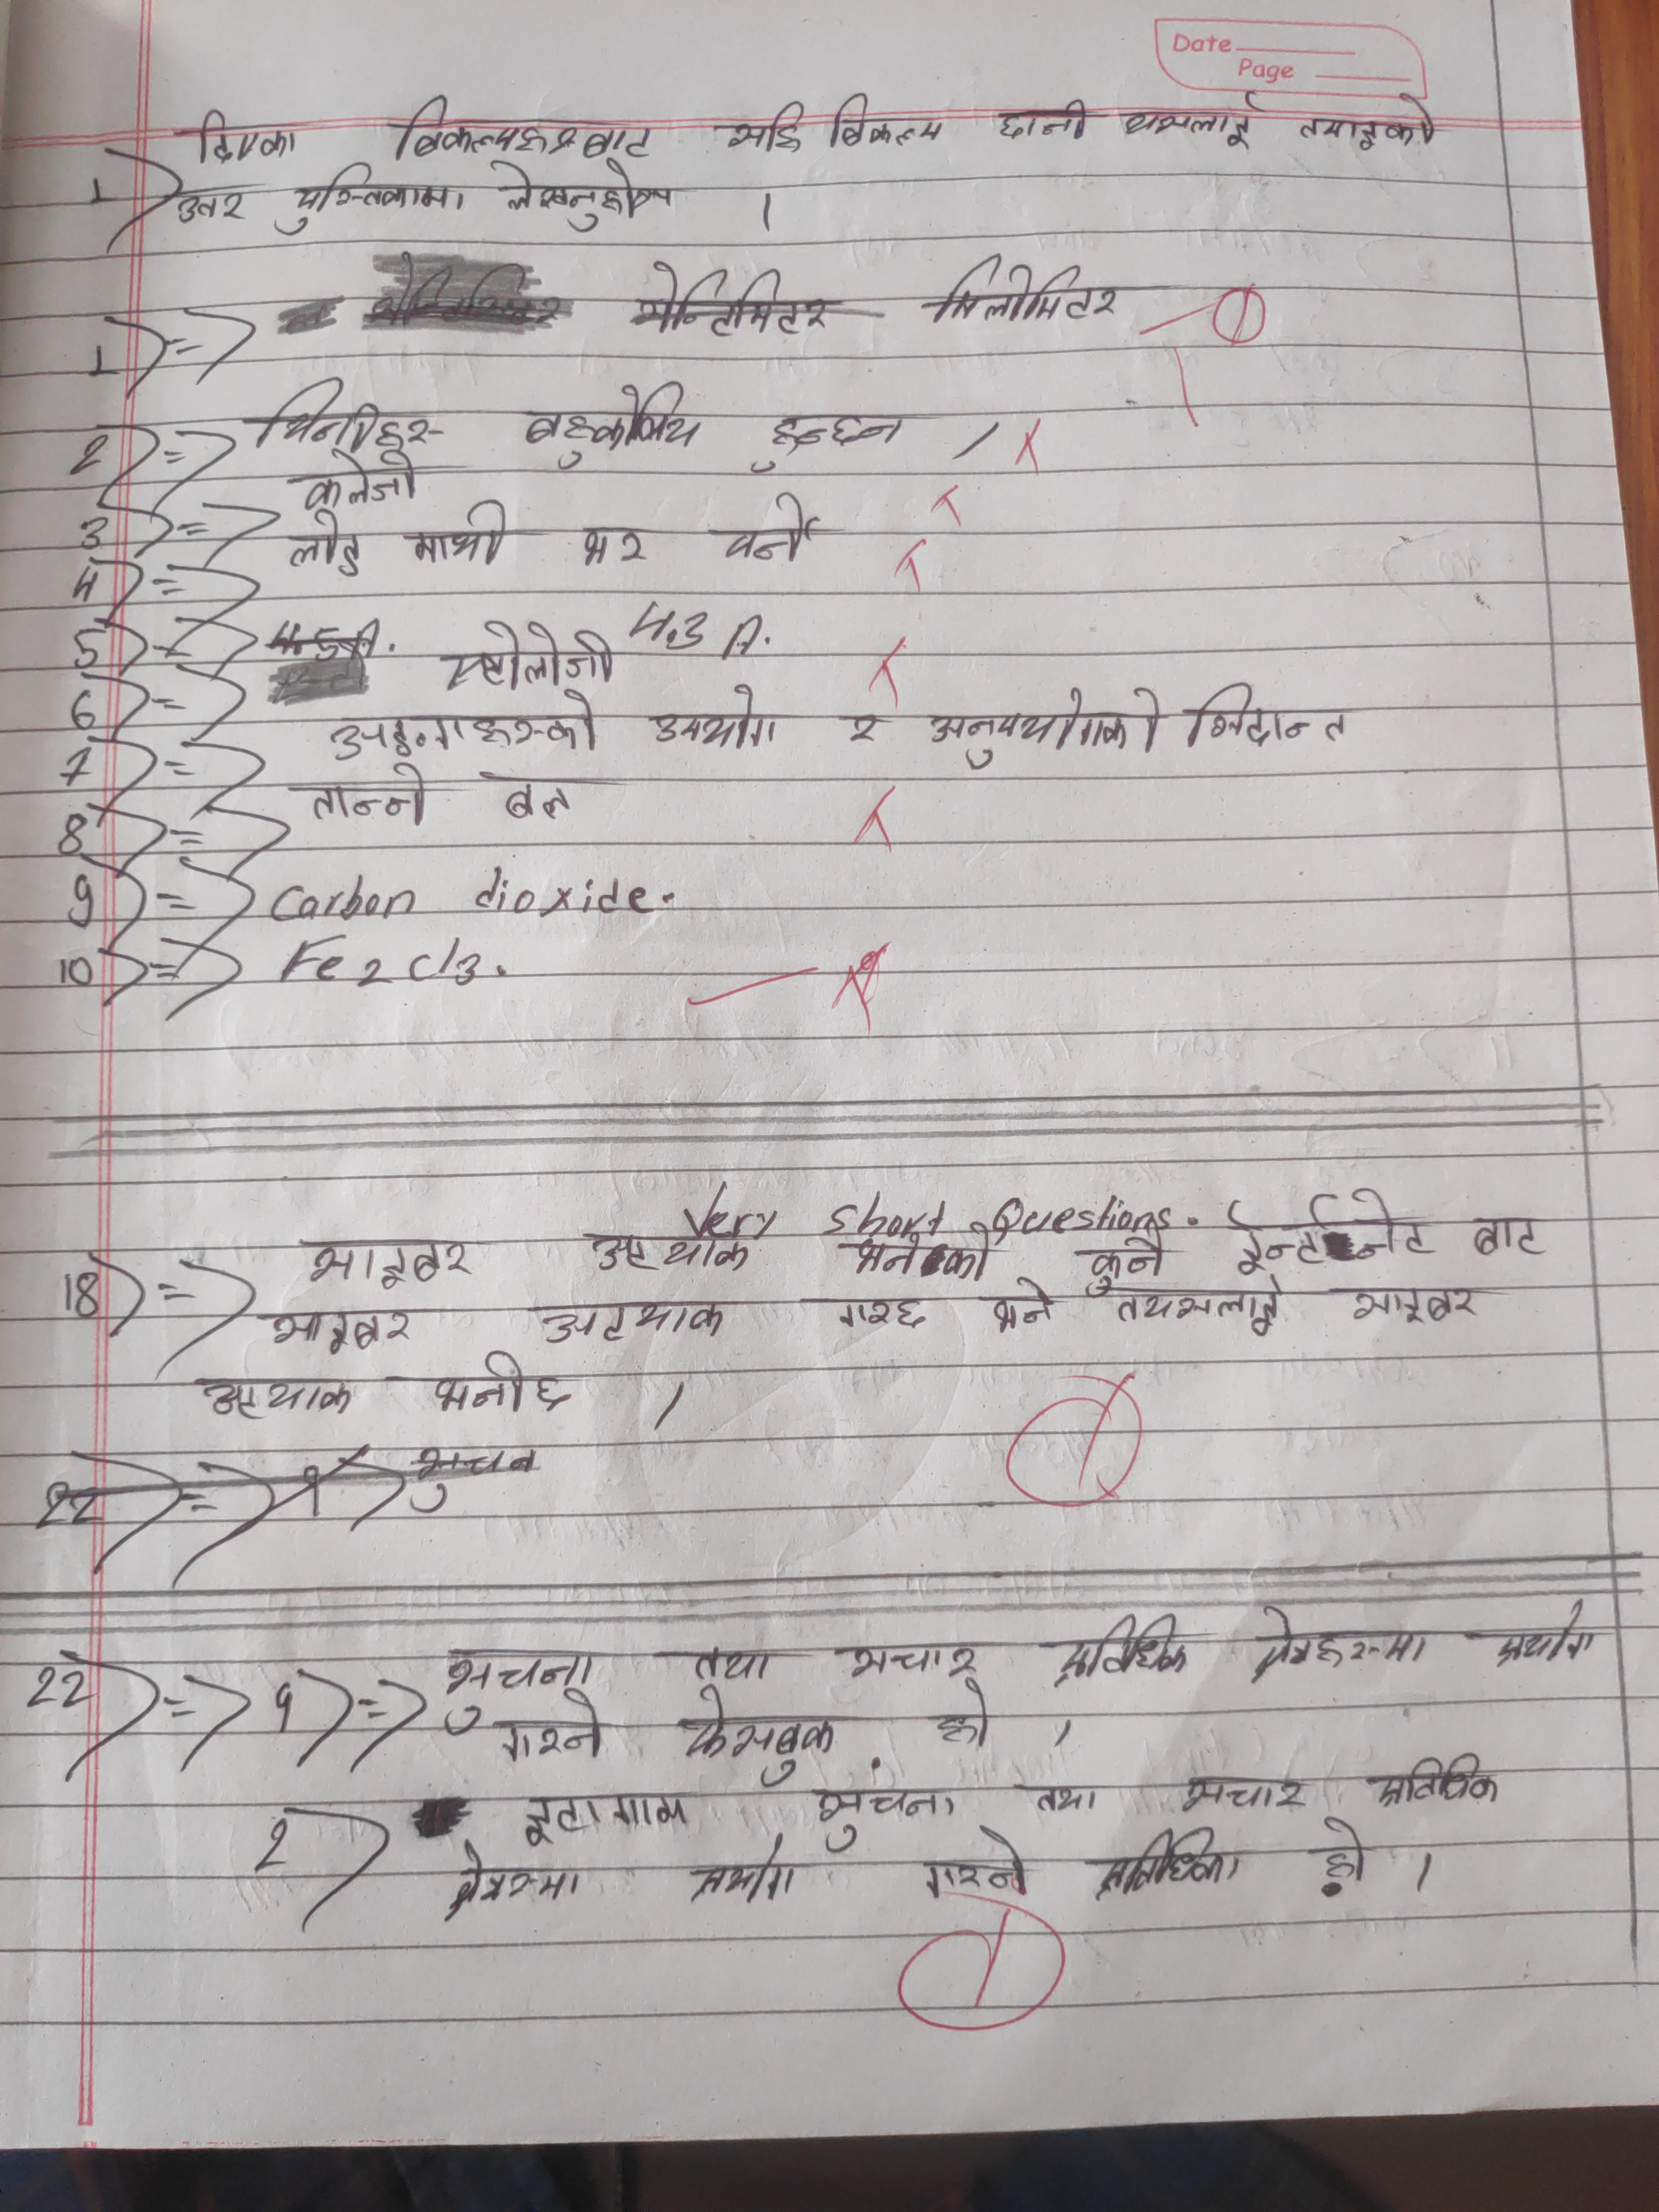text: (315, 688, 606, 761), (918, 685, 1171, 765), (387, 91, 657, 162), (1220, 1190, 1443, 1275), (626, 256, 833, 345), (514, 378, 713, 467), (669, 1679, 836, 1784), (566, 1197, 762, 1282), (234, 373, 448, 449), (486, 153, 681, 235), (432, 611, 624, 693), (924, 251, 1131, 322), (420, 1637, 591, 1723), (282, 162, 481, 235), (1249, 1608, 1431, 1686), (1044, 1608, 1201, 1689), (296, 1230, 477, 1298), (181, 1359, 357, 1428), (1183, 676, 1349, 749), (505, 1784, 702, 1844), (1103, 1275, 1288, 1339), (744, 408, 910, 479), (640, 678, 786, 758), (1087, 1832, 1253, 1902), (807, 1782, 964, 1853), (429, 1348, 575, 1420), (286, 759, 443, 824), (540, 1292, 725, 1346), (1324, 1268, 1486, 1329), (917, 1827, 1037, 1909), (439, 1841, 579, 1911), (1363, 1750, 1514, 1813), (711, 495, 826, 573), (683, 1832, 805, 1905), (1464, 1601, 1600, 1665), (488, 1691, 610, 1763), (408, 500, 525, 573), (831, 87, 945, 162), (835, 1235, 1007, 1284), (1171, 1761, 1317, 1818), (289, 449, 422, 512), (464, 756, 591, 820), (263, 1305, 420, 1357), (1126, 94, 1263, 150), (173, 105, 303, 162), (1298, 99, 1436, 153), (842, 1635, 979, 1686), (662, 1639, 796, 1688), (272, 514, 373, 578), (1300, 1817, 1384, 1892), (723, 98, 816, 162), (1077, 1231, 1169, 1294), (819, 1291, 934, 1339), (972, 1275, 1060, 1336), (566, 519, 655, 577), (993, 94, 1100, 139), (1014, 1773, 1101, 1822), (1467, 1209, 1547, 1261), (931, 1691, 1000, 1749), (173, 190, 256, 223), (835, 711, 894, 747)
